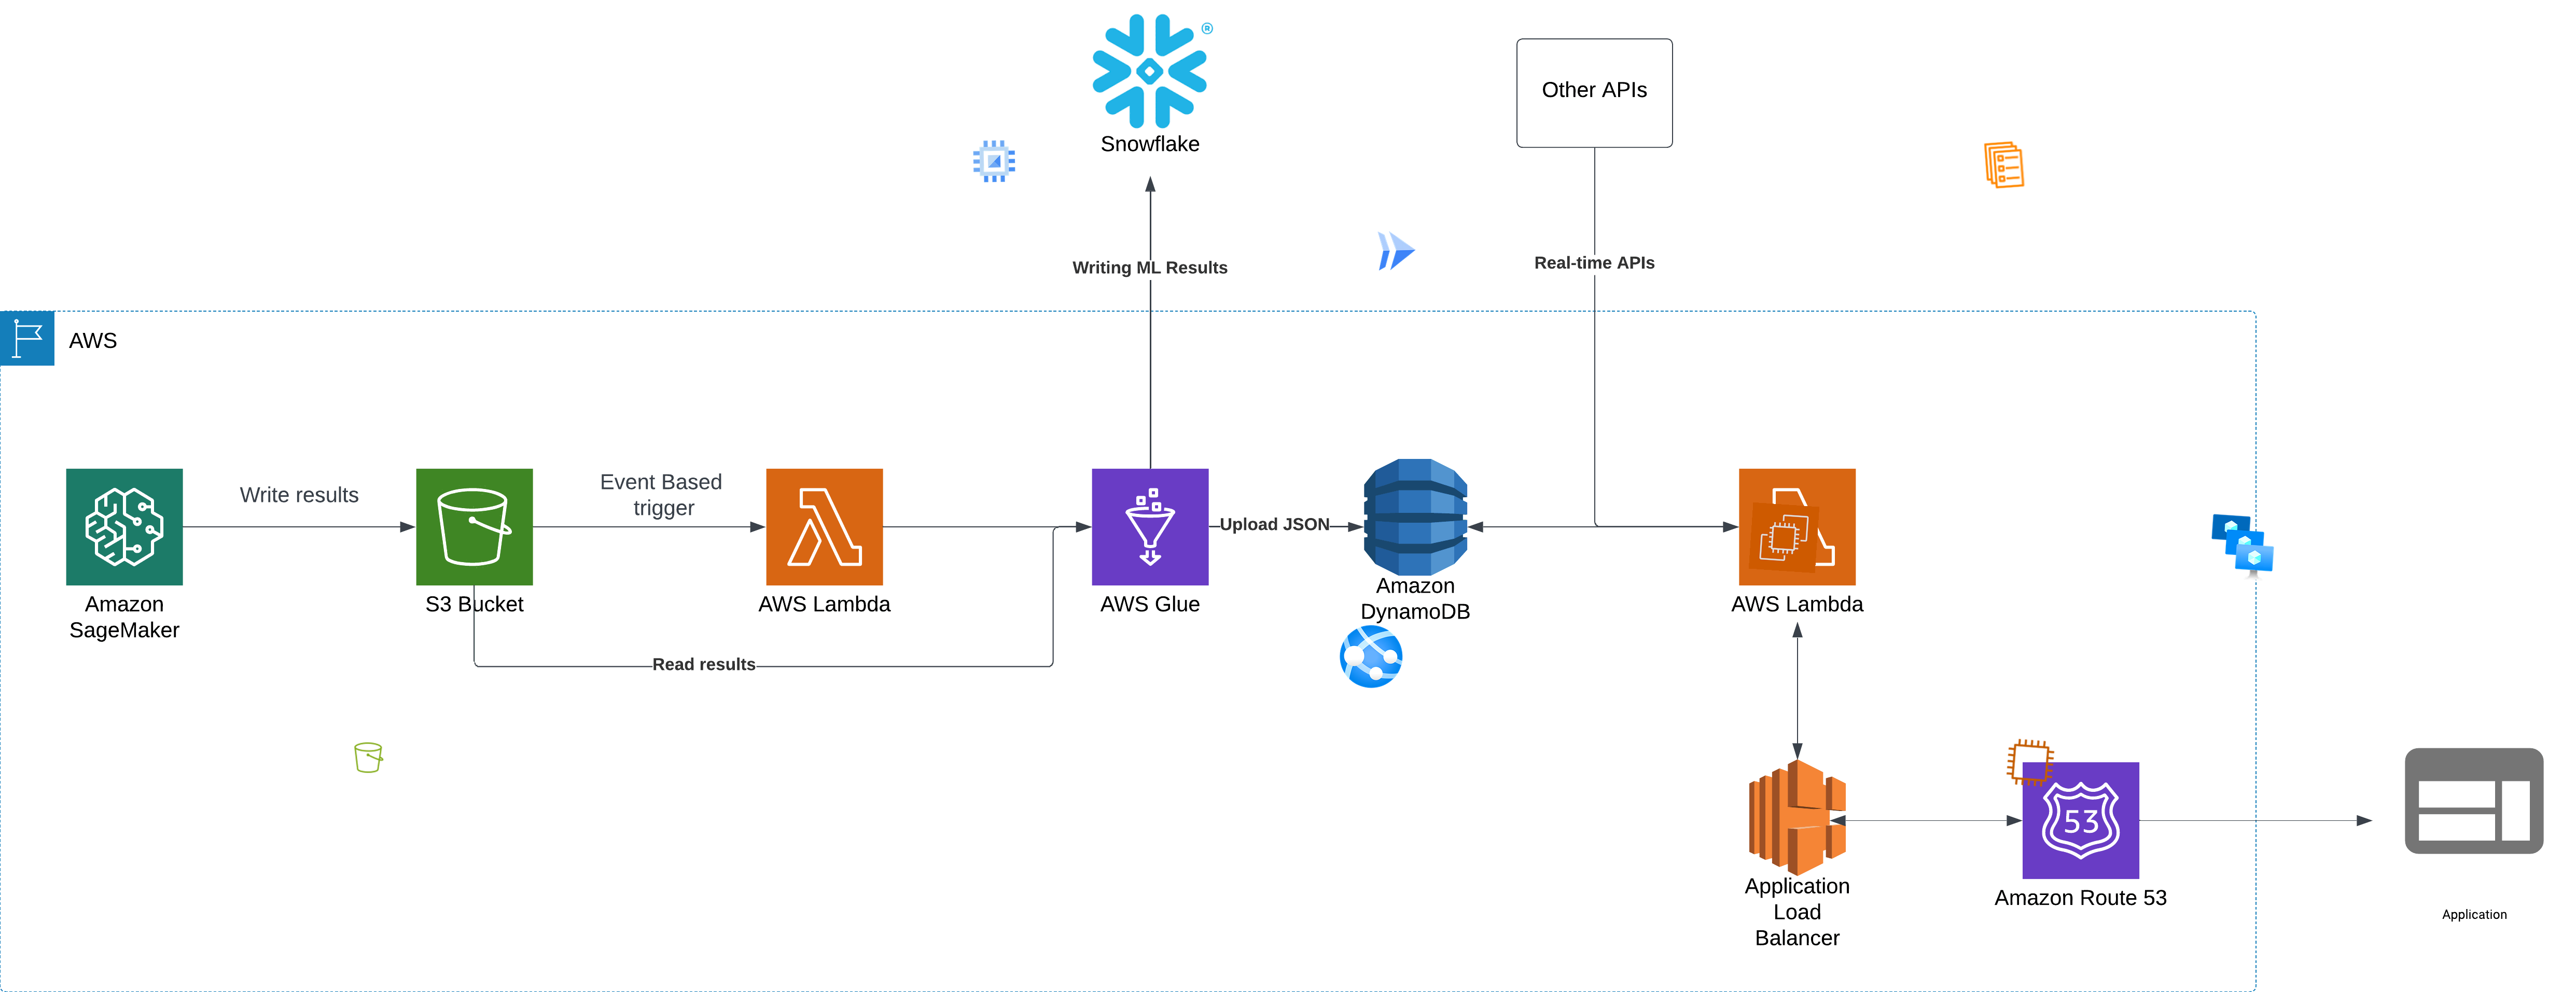aws_amazon_ec2: (1748, 503, 1820, 573)
aws_ec2_instance: (2003, 736, 2057, 790)
aws_elastic_container_service_service: (1978, 138, 2032, 192)
aws_simple_storage_service_bucket: (352, 741, 386, 775)
azure_app_services: (1337, 622, 1406, 691)
azure_vm_scale_sets: (2206, 511, 2277, 581)
gcp_cloud_run: (1370, 225, 1423, 276)
gcp_compute_engine: (969, 136, 1020, 187)
